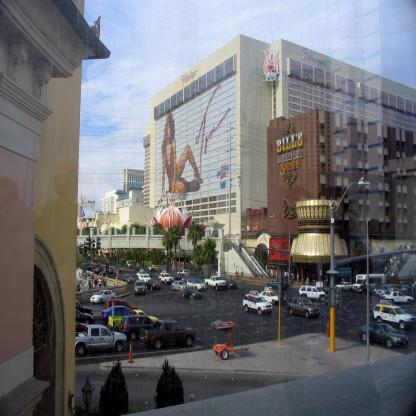Car: (76, 264, 416, 361)
